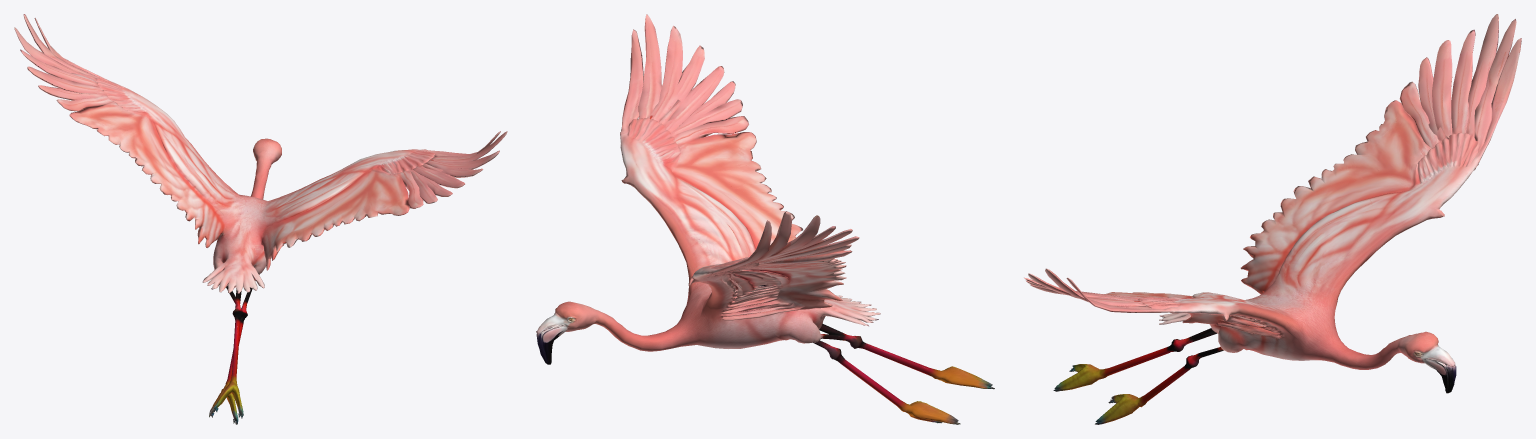
The picture shows the model from 3 angles, left to right: view 1: azimuth 30°, elevation 25°; view 2: azimuth 150°, elevation 25°; view 3: azimuth 270°, elevation 25°; orthographic projection. The views are drawn at different scales.
Parts seen in each view (by area): view 1: Object_4; view 2: Object_4; view 3: Object_4.
Part boxes in pixels (left/top/right/bottom): Object_4: left=14, top=14, right=507, bottom=424; Object_4: left=536, top=14, right=994, bottom=424; Object_4: left=1024, top=14, right=1521, bottom=424.
Size of the model in its own units: 1.88 by 1.67 by 2.
1 material, 1 textured.
